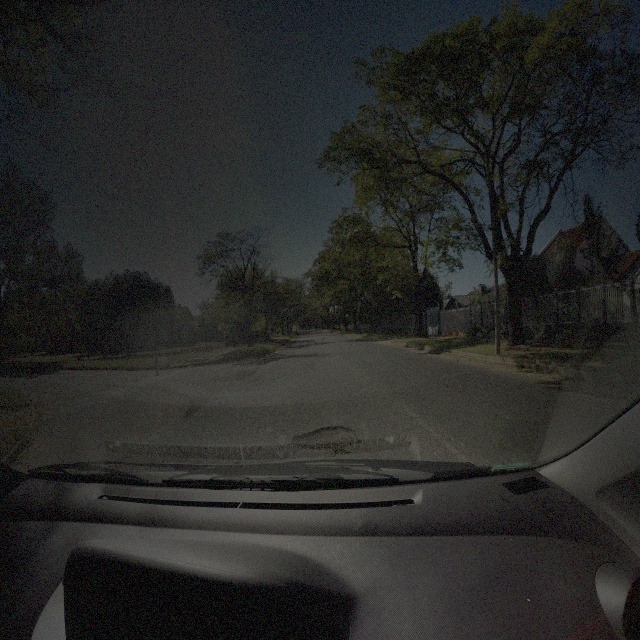pothole: (289, 424, 363, 453)
